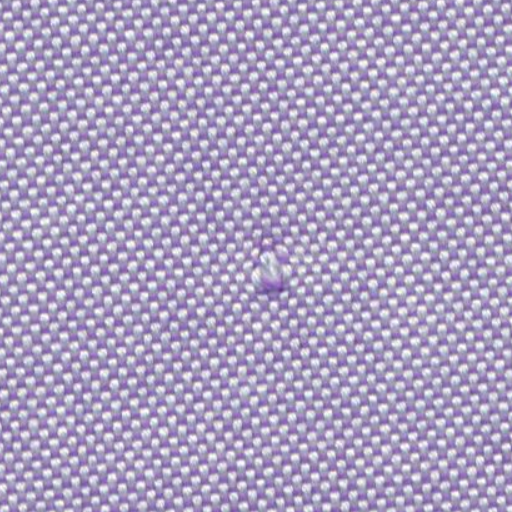MianQiu: (224, 218, 324, 312)
